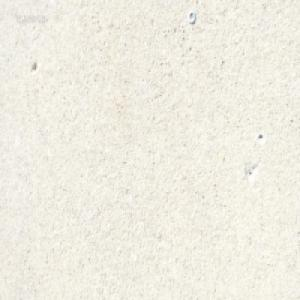Washer: (187, 10, 195, 24)
